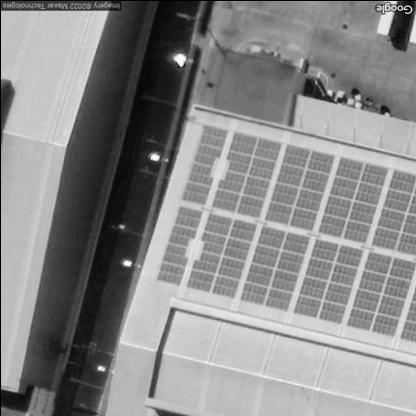solar-pv-panel: (156, 122, 416, 344)
